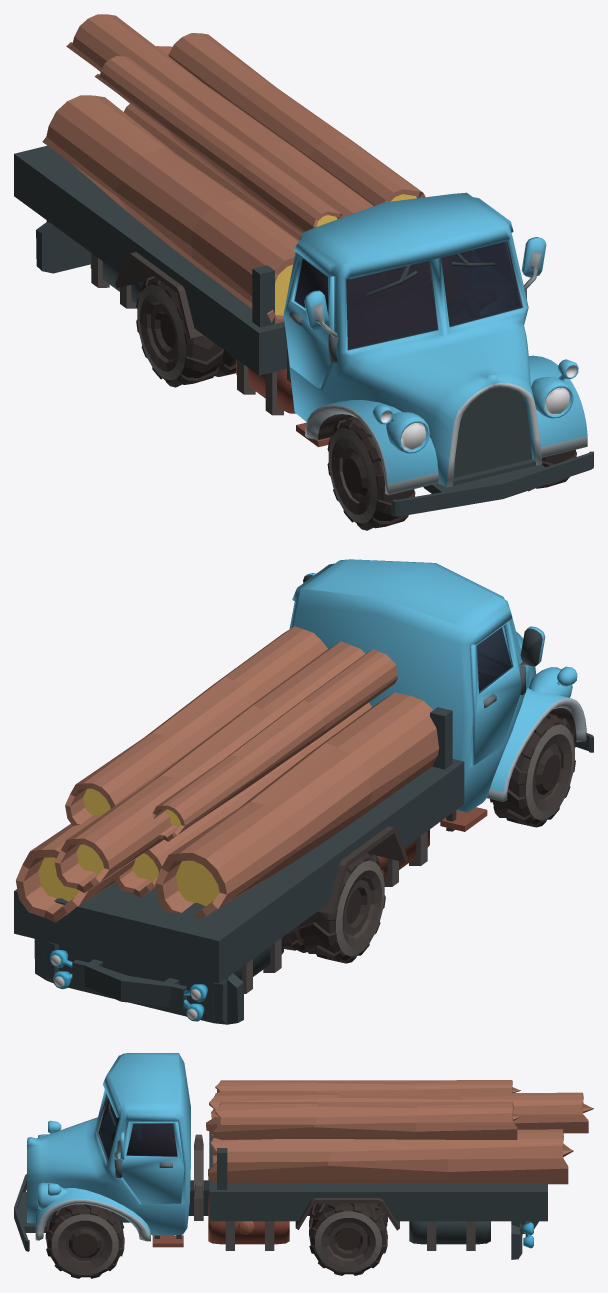
File: truck_wood (3).fbx
3 views of the same model, one above another, from view 1: azimuth 30°, elevation 25°; view 2: azimuth 150°, elevation 25°; view 3: azimuth 270°, elevation 25° (orthographic). The views are drawn at different scales.
Parts seen in each view (by area): view 1: Truck_body.001, Prop2, Truck_Trailler1, Truck_Engine.001, Truck_Wheel_Back.001, Truck_Wheel_Front.right.001, Truck_Door.right.001, Truck_Bumper.001, TruckModule_OilTank.001, Truck_WheelCover.001, TruckModule_Laggage.001; view 2: Prop2, Truck_body.001, Truck_Trailler1, Truck_Bumper.001, Truck_Wheel_Back.001, Truck_Wheel_Front.right.001, Truck_Door.right.001, Truck_WheelCover.001, TruckModule_Laggage.001, TruckModule_OilTank.001; view 3: Prop2, Truck_body.001, Truck_Trailler1, Truck_Wheel_Back.001, Truck_Wheel_Front.left.001, Truck_Door.left.001, TruckModule_OilTank.001, TruckModule_Laggage.001, Truck_Chassy_Short.001, Truck_Engine.001, Truck_WheelCover.001, Truck_Bumper.001.
Boxes of the visible parts, x1,y1,x2,y2 form: Truck_body.001: (287, 192, 587, 495); Prop2: (42, 14, 425, 323); Truck_Trailler1: (14, 145, 287, 375); Truck_Engine.001: (391, 387, 593, 516); Truck_Wheel_Back.001: (136, 276, 236, 387); Truck_Wheel_Front.right.001: (327, 416, 415, 530); Truck_Door.right.001: (283, 252, 333, 388); Truck_Bumper.001: (36, 220, 90, 273); TruckModule_OilTank.001: (236, 359, 295, 415); Truck_WheelCover.001: (115, 252, 203, 339); TruckModule_Laggage.001: (90, 252, 143, 308); Prop2: (16, 626, 438, 922); Truck_body.001: (290, 559, 586, 831); Truck_Trailler1: (14, 707, 464, 983); Truck_Bumper.001: (34, 938, 243, 1024); Truck_Wheel_Back.001: (284, 853, 385, 963); Truck_Wheel_Front.right.001: (490, 713, 575, 827); Truck_Door.right.001: (470, 621, 521, 764); Truck_WheelCover.001: (318, 826, 407, 915); TruckModule_Laggage.001: (233, 936, 283, 993); TruckModule_OilTank.001: (368, 829, 429, 886); Prop2: (206, 1080, 593, 1184); Truck_body.001: (27, 1053, 190, 1247); Truck_Trailler1: (209, 1089, 547, 1221); Truck_Wheel_Back.001: (309, 1203, 387, 1275); Truck_Wheel_Front.left.001: (45, 1204, 124, 1278); Truck_Door.left.001: (120, 1121, 184, 1204); TruckModule_OilTank.001: (208, 1196, 289, 1250); TruckModule_Laggage.001: (409, 1221, 490, 1250); Truck_Chassy_Short.001: (188, 1134, 310, 1220); Truck_Engine.001: (14, 1174, 130, 1251); Truck_WheelCover.001: (295, 1198, 399, 1230); Truck_Bumper.001: (511, 1221, 538, 1259).
Size of the model in its own units: 506 by 511 by 1539.
4 materials, 2 textured.
